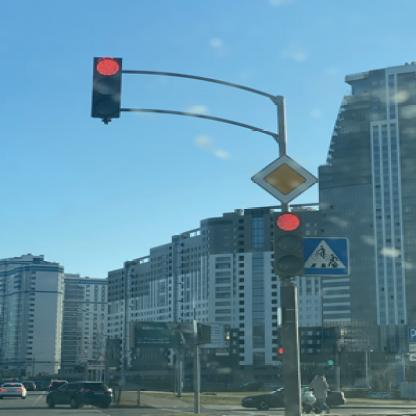Red Light: (271, 211, 304, 277), (92, 58, 124, 119)
